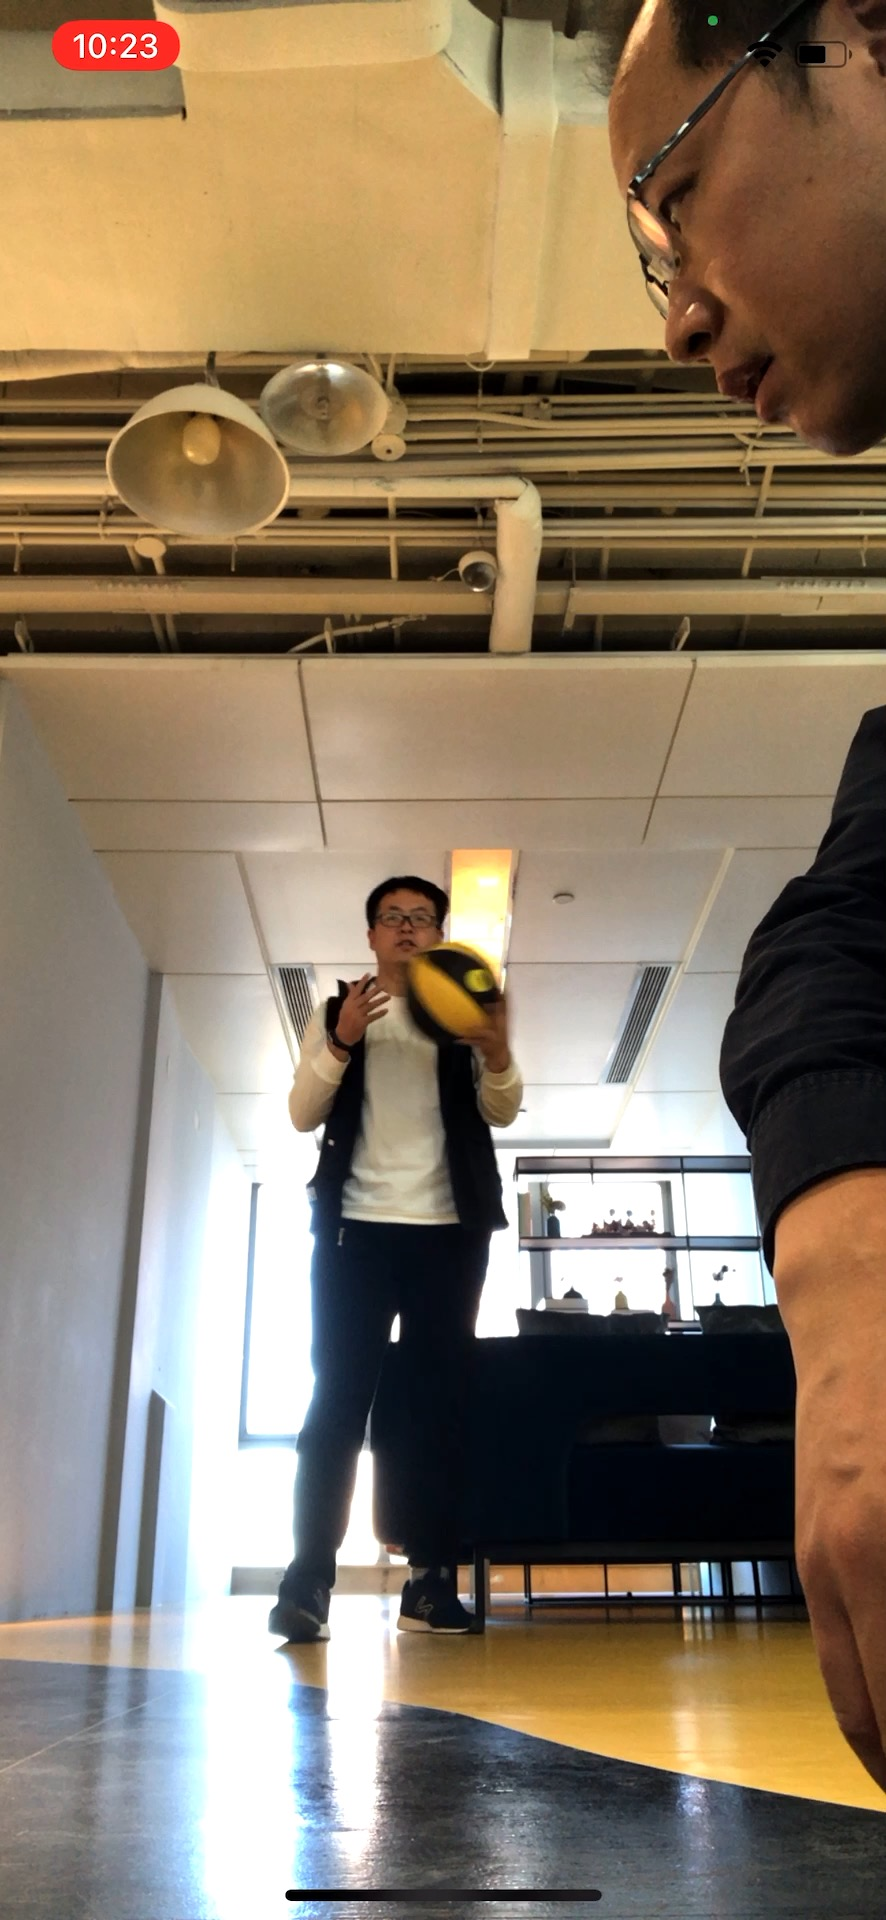ball: (400, 940, 508, 1044)
